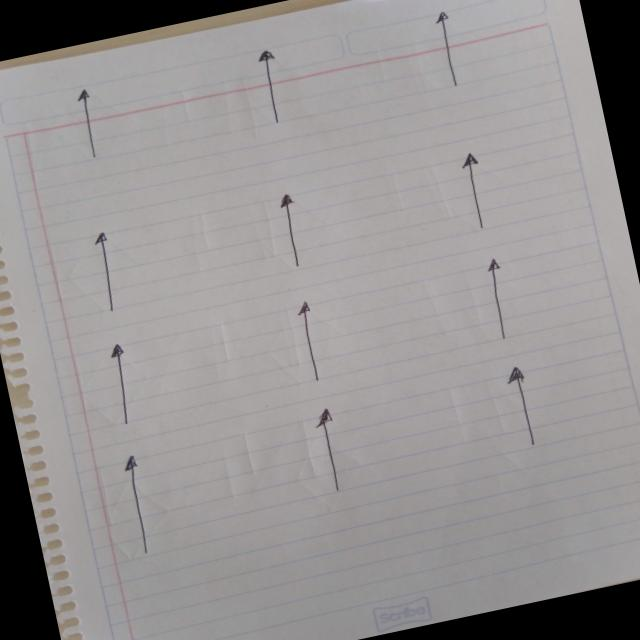arrow_line_up: (424, 3, 494, 107), (61, 80, 120, 174), (267, 184, 323, 280), (99, 338, 155, 433), (113, 451, 163, 548), (310, 403, 360, 500), (450, 147, 507, 231), (478, 253, 527, 349), (506, 358, 550, 454), (286, 294, 330, 384), (89, 230, 134, 316), (247, 41, 293, 123)
